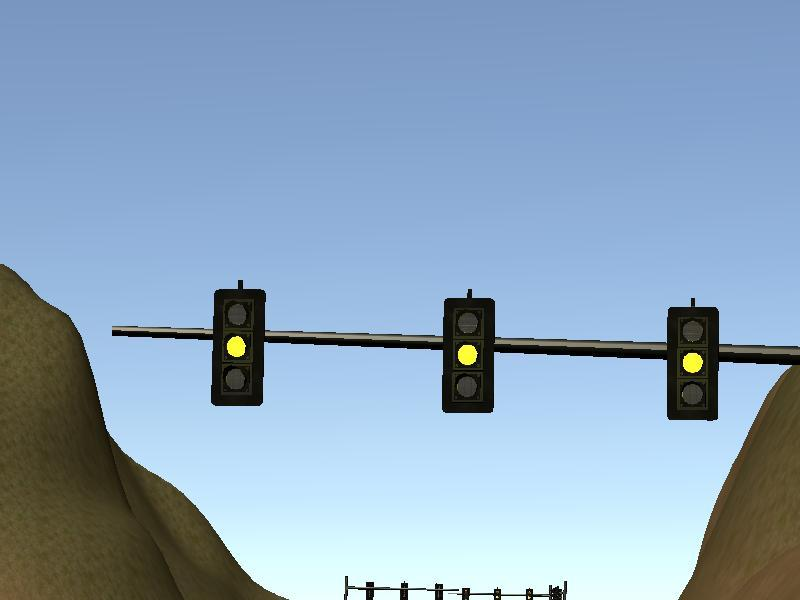Yellow: (666, 306, 718, 420), (443, 297, 492, 412), (214, 290, 263, 404)
